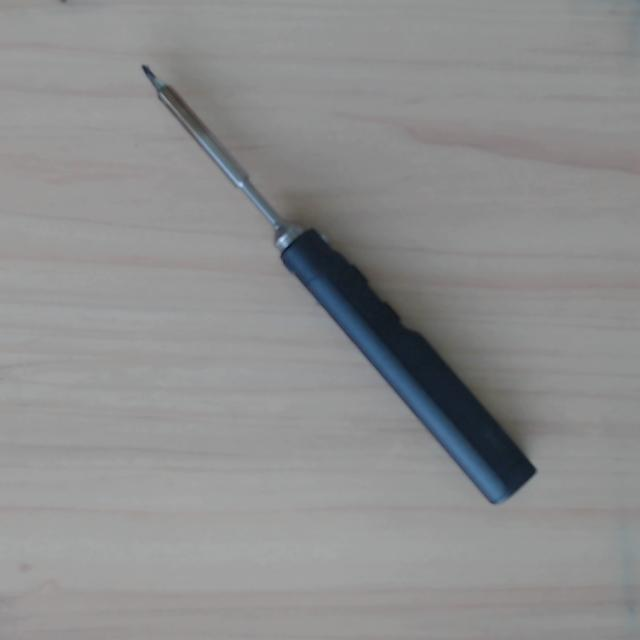Soldering-Iron: (124, 44, 540, 509)
